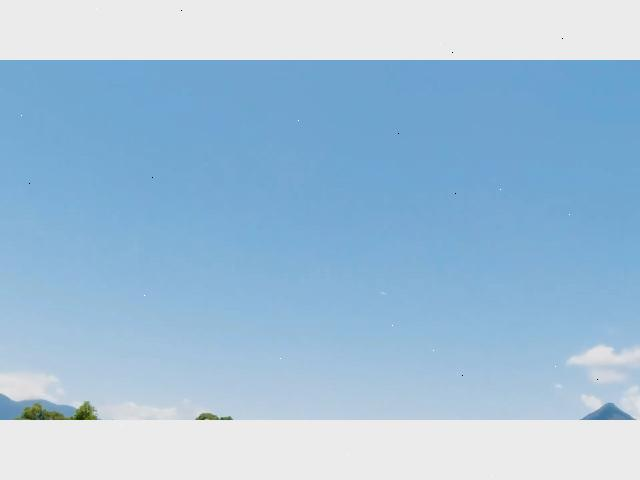Anti-Drone: (374, 282, 398, 300)
